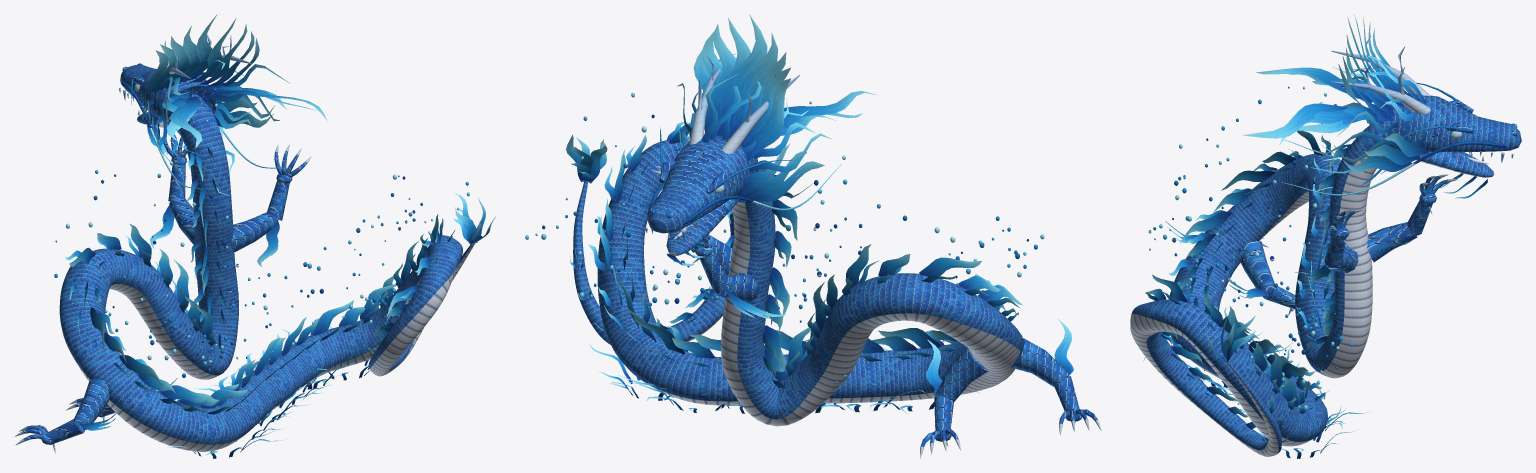
The model's file is HO_VFX_WaterDragon_Rearing.fbx.
3 views of the same model, side by side, from view 1: azimuth 30°, elevation 25°; view 2: azimuth 150°, elevation 25°; view 3: azimuth 270°, elevation 25° (orthographic). The views are drawn at different scales.
Parts seen in each view (by area): view 1: HO_VFX_WaterDragon_Rearing__Dragon_Scales, HO_VFX_WaterDragon_Rearing_Fins, HO_VFX_WaterDragon_Rearing_Mane, HO_VFX_WaterDragon_Rearing__Dragon_Belly, HO_VFX_WaterDragon_Rearing_Droplets, HO_VFX_WaterDragon_Rearing__Dragon_Horn; view 2: HO_VFX_WaterDragon_Rearing__Dragon_Scales, HO_VFX_WaterDragon_Rearing_Fins, HO_VFX_WaterDragon_Rearing_Mane, HO_VFX_WaterDragon_Rearing__Dragon_Belly, HO_VFX_WaterDragon_Rearing__Dragon_Horn, HO_VFX_WaterDragon_Rearing_Droplets; view 3: HO_VFX_WaterDragon_Rearing__Dragon_Scales, HO_VFX_WaterDragon_Rearing_Fins, HO_VFX_WaterDragon_Rearing_Mane, HO_VFX_WaterDragon_Rearing__Dragon_Belly, HO_VFX_WaterDragon_Rearing__Dragon_Horn, HO_VFX_WaterDragon_Rearing_Droplets.
Part boxes in pixels (box(x1,y1,x2,y2)): HO_VFX_WaterDragon_Rearing__Dragon_Scales: box(23, 63, 473, 444); HO_VFX_WaterDragon_Rearing_Fins: box(65, 147, 495, 430); HO_VFX_WaterDragon_Rearing_Mane: box(121, 14, 370, 458); HO_VFX_WaterDragon_Rearing__Dragon_Belly: box(71, 118, 475, 451); HO_VFX_WaterDragon_Rearing_Droplets: box(54, 96, 469, 377); HO_VFX_WaterDragon_Rearing__Dragon_Horn: box(15, 34, 311, 453); HO_VFX_WaterDragon_Rearing__Dragon_Scales: box(573, 135, 1097, 447); HO_VFX_WaterDragon_Rearing_Fins: box(566, 122, 1073, 395); HO_VFX_WaterDragon_Rearing_Mane: box(589, 14, 979, 414); HO_VFX_WaterDragon_Rearing__Dragon_Belly: box(649, 200, 1020, 426); HO_VFX_WaterDragon_Rearing__Dragon_Horn: box(645, 57, 1101, 458); HO_VFX_WaterDragon_Rearing_Droplets: box(525, 92, 1044, 383); HO_VFX_WaterDragon_Rearing__Dragon_Scales: box(1131, 94, 1521, 453); HO_VFX_WaterDragon_Rearing_Fins: box(1145, 130, 1412, 441); HO_VFX_WaterDragon_Rearing_Mane: box(1143, 15, 1506, 458); HO_VFX_WaterDragon_Rearing__Dragon_Belly: box(1130, 149, 1494, 456); HO_VFX_WaterDragon_Rearing__Dragon_Horn: box(1261, 36, 1513, 315); HO_VFX_WaterDragon_Rearing_Droplets: box(1148, 85, 1367, 410).
Bounding box in the file's own units: 46.77 × 35.11 × 32.74.
